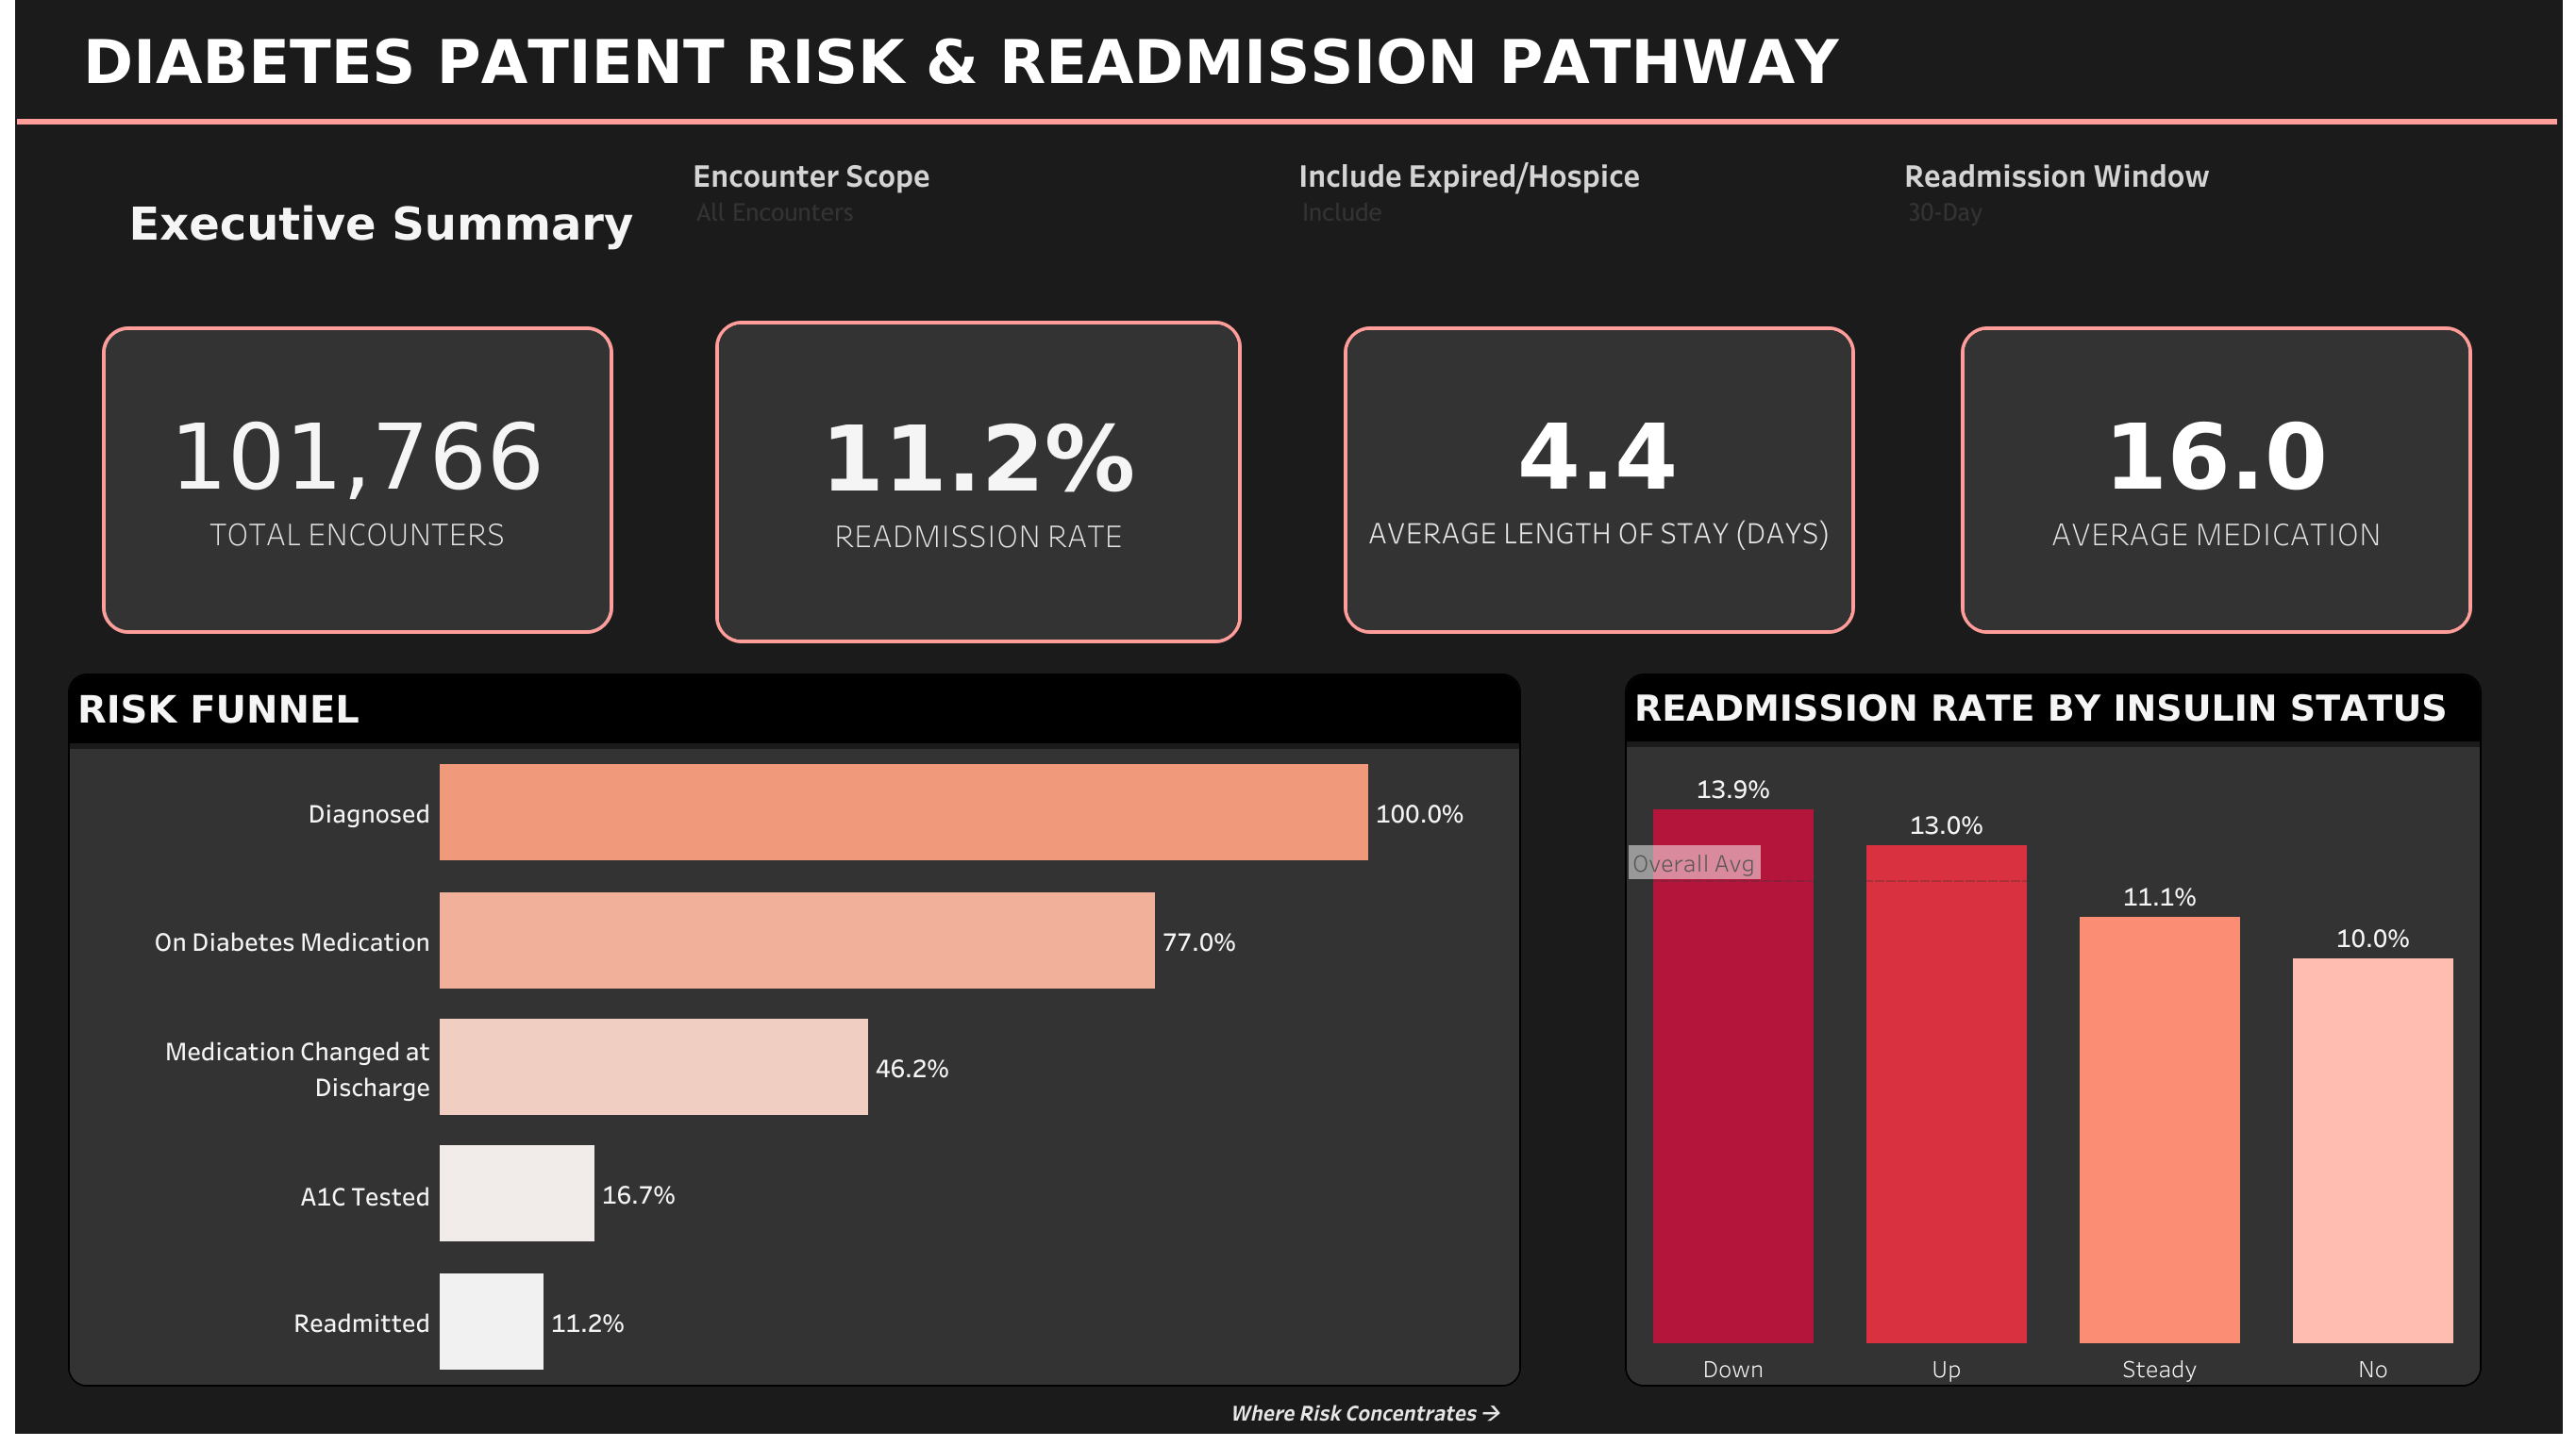

This screenshot's page, from the dashboard's own definition file:
{"tool":"tableau","page":{"name":"Executive Summary","canvas":[1366,768],"ordinal":2},"visuals":[{"type":"text","box":[8,0,1350,65]},{"type":"text","box":[41,76,322,85]},{"type":"parameter","param":"[Parameters].[Parameter 2445124789719042]","box":[363,76,321,85]},{"type":"parameter","param":"[Parameters].[Parameter 2445124789452801]","box":[684,76,321,85]},{"type":"parameter","param":"[Parameters].[Parameter 2445124788506624]","box":[1005,76,321,85]},{"type":"worksheet","title":"KPI - Total Encounters","mark":"Automatic","box":[50,169,279,171]},{"type":"worksheet","title":"KPI - Avg LOS","mark":"Automatic","box":[708,169,279,171]},{"type":"worksheet","title":"KPI - Avg Medications","mark":"Automatic","box":[1035,169,279,171]},{"type":"worksheet","title":"readmisiion rate","mark":"Automatic","box":[379,170,279,171]},{"type":"worksheet","title":"RISK FUNNEL","mark":"Automatic","box":[36,357,770,378]},{"type":"worksheet","title":"READMISSION RATE BY INSULIN STATUS","mark":"Automatic","rows":["Calculation_2445124790632454"],"cols":["insulin"],"box":[861,357,454,378]},{"type":"dashboard-object","box":[626,737,197,22]}]}

Visuals, with their boxes in screenshot pixels (x1, y1, x2, y2), scaled from the page's 1366x768 canvas onto the 2576x1447 screenshot:
text: box(15, 0, 2561, 123)
text: box(77, 143, 684, 304)
parameter: box(684, 143, 1290, 304)
parameter: box(1290, 143, 1896, 304)
parameter: box(1896, 143, 2501, 304)
"KPI - Total Encounters" worksheet: box(94, 319, 621, 640)
"KPI - Avg LOS" worksheet: box(1335, 319, 1862, 640)
"KPI - Avg Medications" worksheet: box(1951, 319, 2478, 640)
"readmisiion rate" worksheet: box(714, 321, 1241, 642)
"RISK FUNNEL" worksheet: box(68, 673, 1520, 1385)
"READMISSION RATE BY INSULIN STATUS" worksheet: box(1624, 673, 2480, 1385)
dashboard-object: box(1180, 1389, 1552, 1430)
